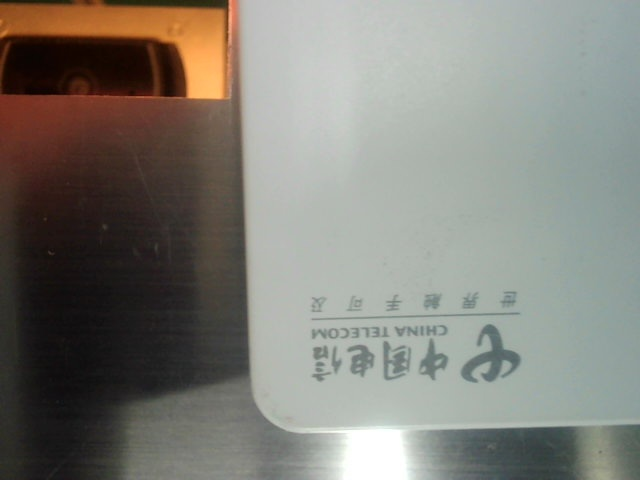AB_ChinaTelecom: (299, 288, 531, 383)
